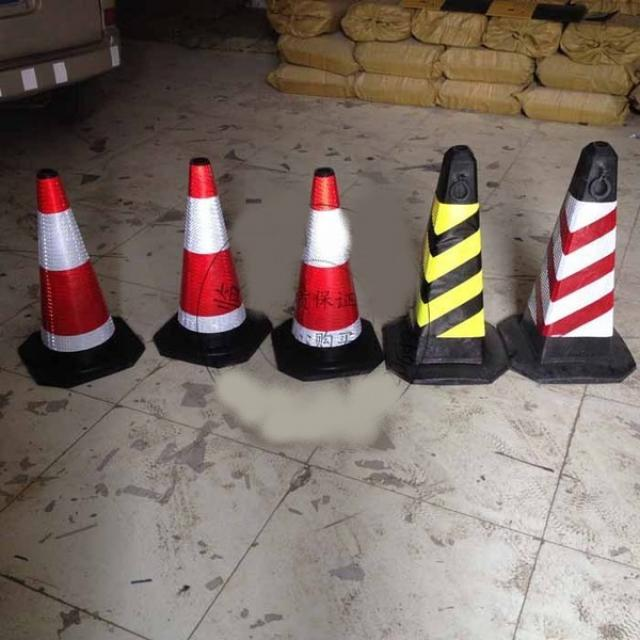reflective_cone: (496, 139, 635, 382), (381, 143, 508, 384), (21, 168, 145, 385), (149, 158, 272, 367), (270, 166, 386, 380)
